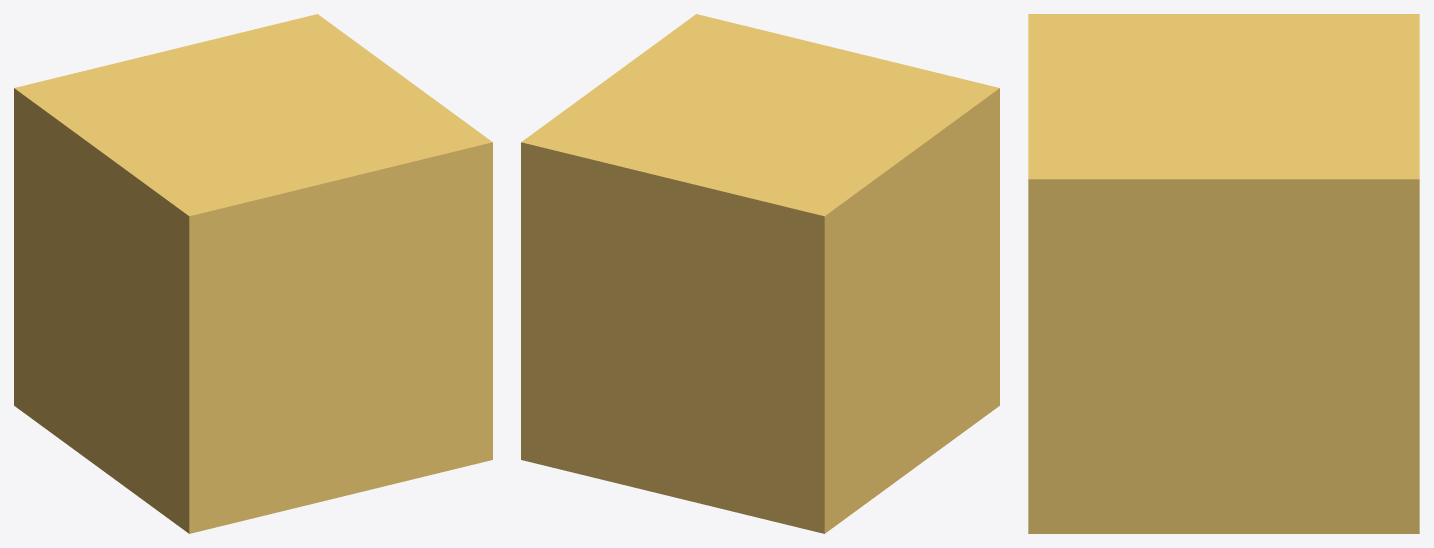
The model's file is Level1-2-BigBangDeneme.fbx.
3 views of the same model, side by side, from view 1: azimuth 30°, elevation 25°; view 2: azimuth 150°, elevation 25°; view 3: azimuth 270°, elevation 25° (orthographic). The views are drawn at different scales.
Parts seen in each view (by area): view 1: Cube.027; view 2: Cube.027; view 3: Cube.027.
Boxes of the visible parts, box(x1,y1,x2,y2) form: Cube.027: box(14, 14, 492, 533); Cube.027: box(521, 14, 999, 533); Cube.027: box(1028, 14, 1419, 533).
Bounding box in the file's own units: 342 × 342 × 342.
